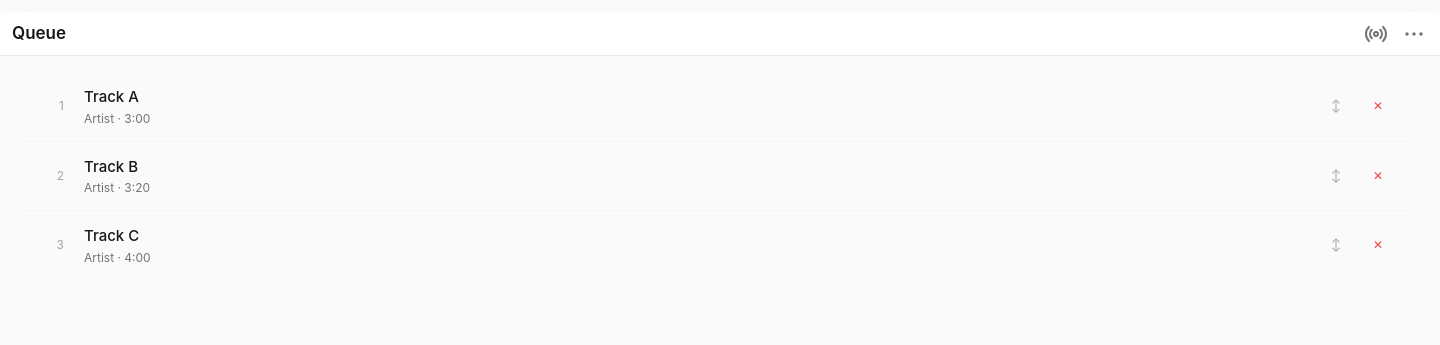
QueueView › shows mutation alert when remove fails
Click the button with test id "queue-track-remove" at (1378, 106), box [1360,88,1396,124]
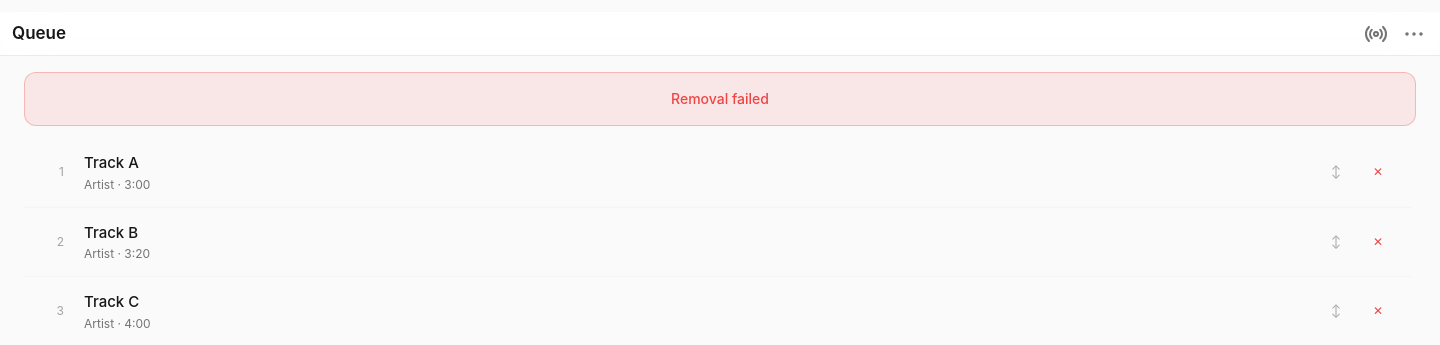
Check: the message "Removal failed" is shown, box [24,72,1416,126]
Check: the message with test id "queue-mutation-error" reads "Removal failed", box [671,90,769,107]
